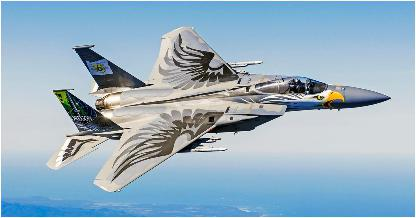F117: (46, 26, 390, 190)
